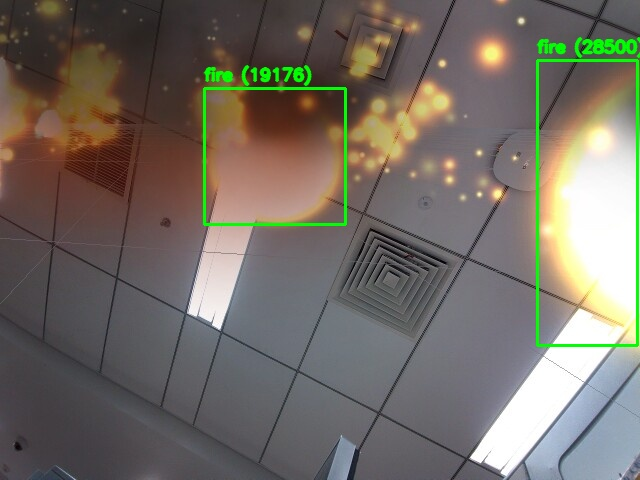fire: (537, 60, 637, 345), (204, 88, 345, 224)
